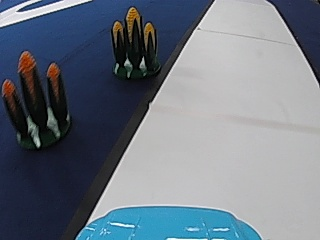corn: (5, 51, 74, 150), (108, 4, 161, 79)
